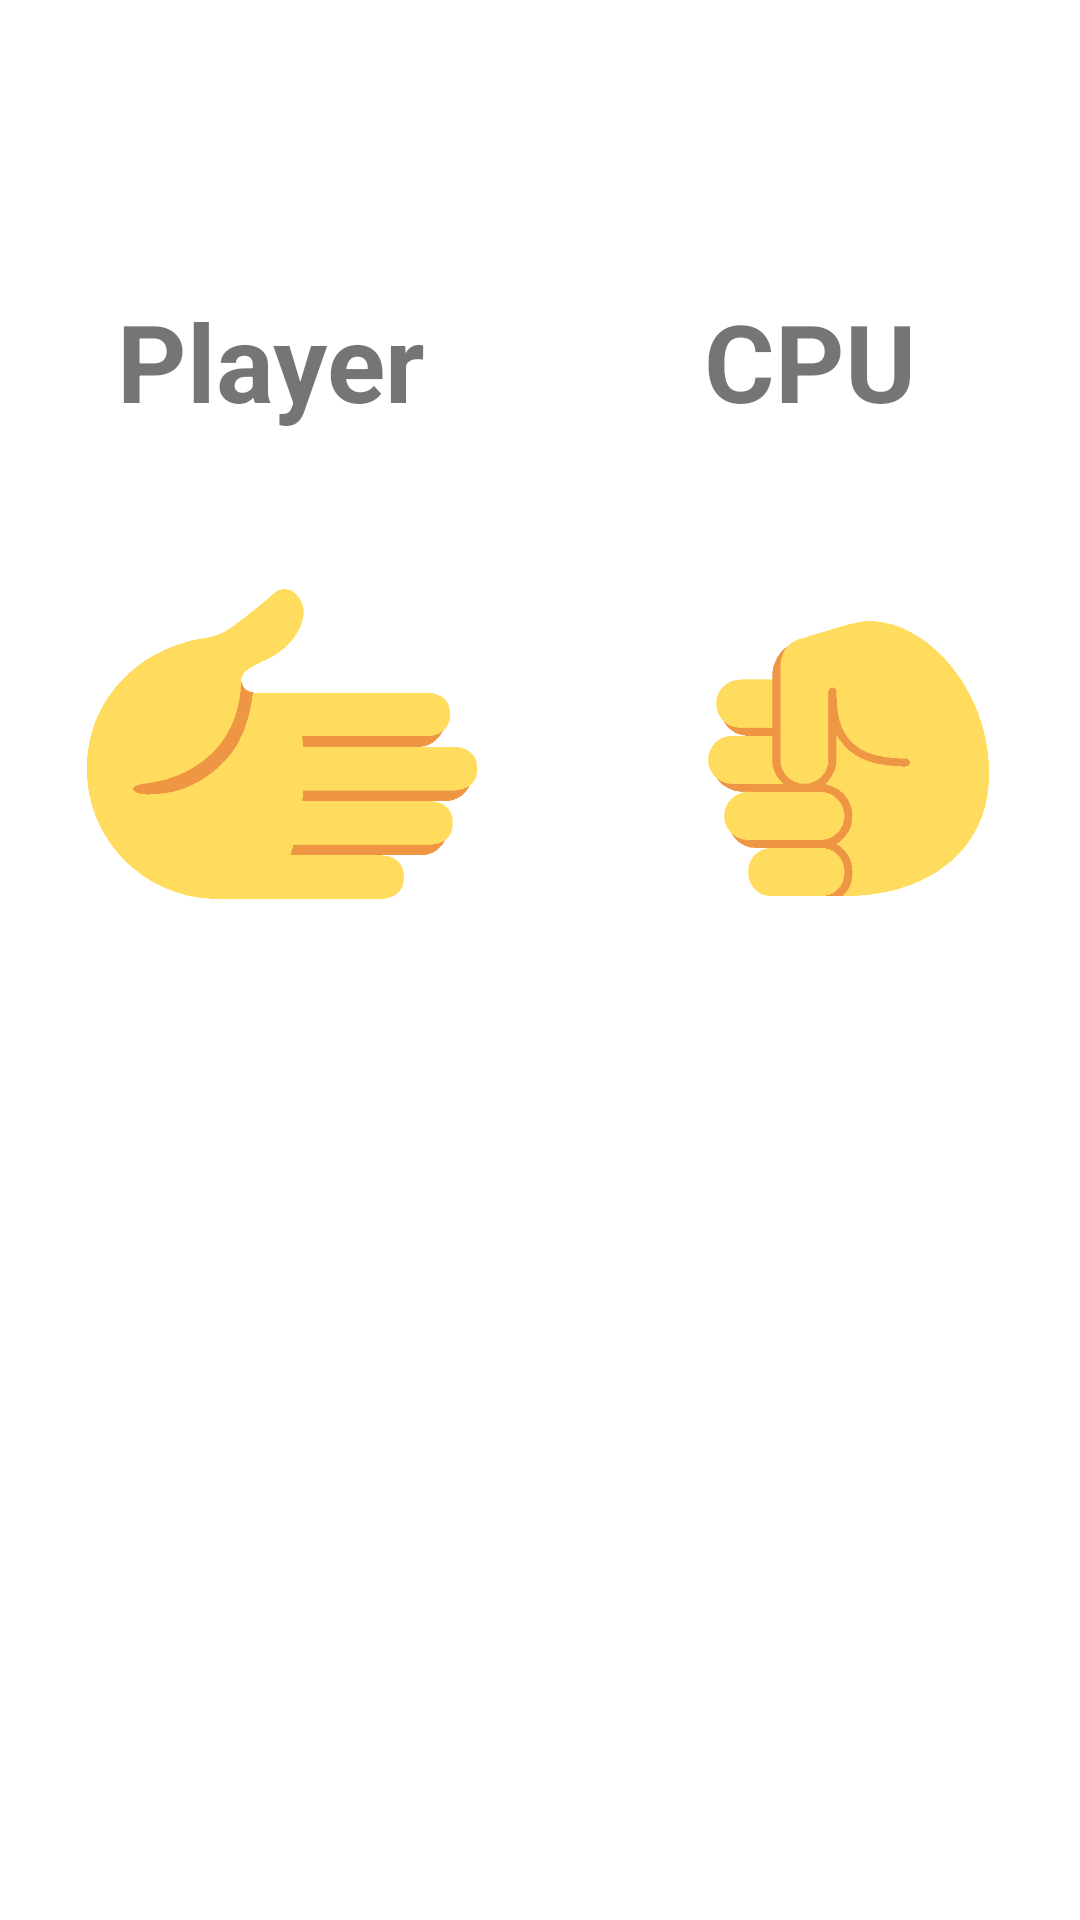

Icon click points for this 1080 × 1920 phone screenshot, format (x,y):
rps cpu rock: (848,758)
